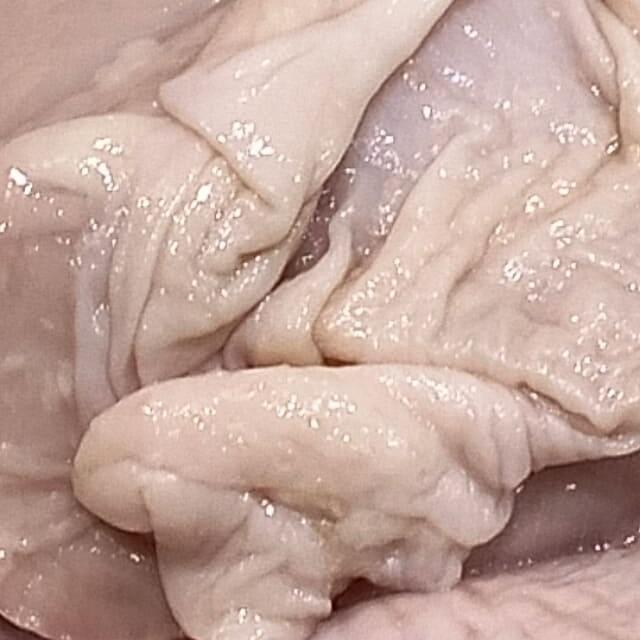chicken: (0, 0, 640, 628), (0, 133, 172, 640)
